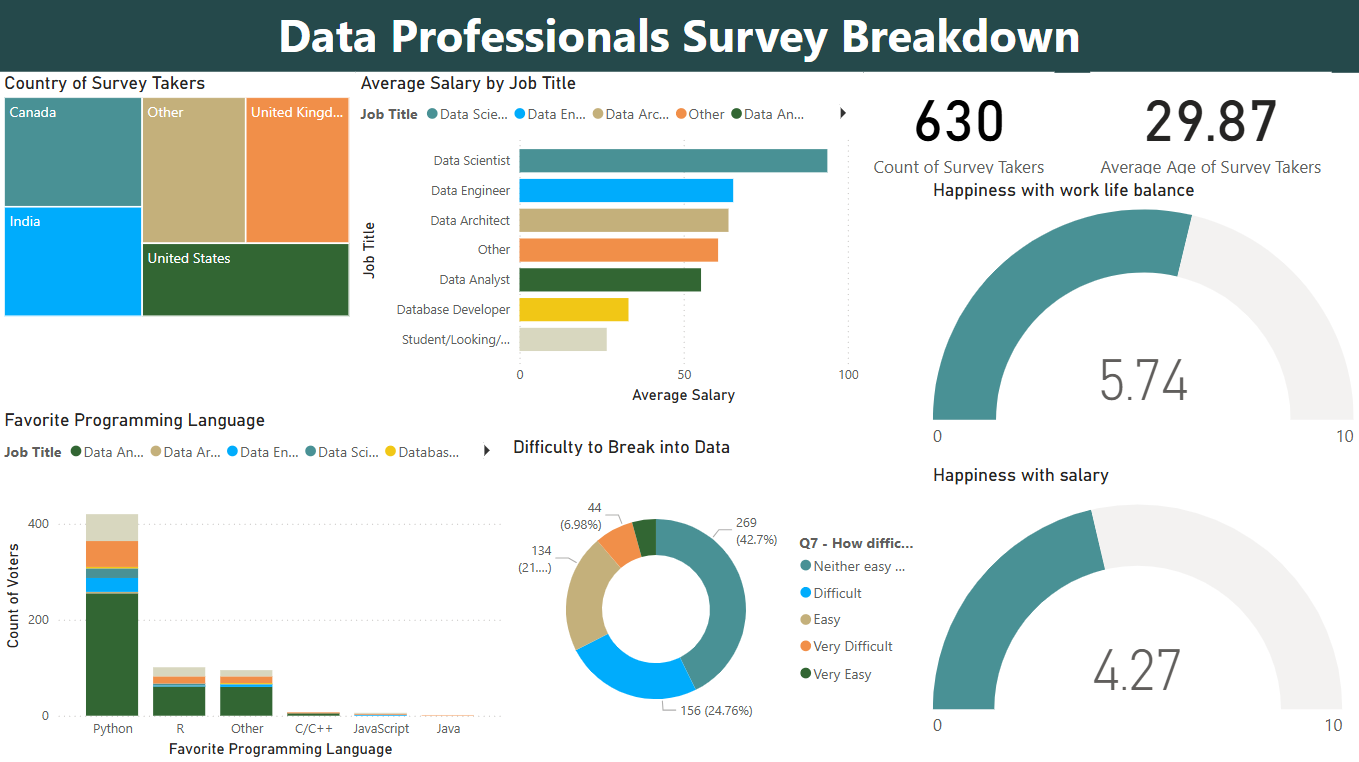

The page's visual inventory and layout, read from the dashboard file:
{"tool":"powerbi","page":{"name":"Page 1","canvas":[1280,720],"ordinal":0},"visuals":[{"type":"textbox","box":[0,0,1280.3,70],"z":0},{"type":"card","fields":{"Values":["Count(Data Professional Survey.Unique ID)"]},"box":[813.6,69.9,178.9,100.9],"z":1000},{"type":"card","fields":{"Values":["Avg(Data Professional Survey.Q10 - Current Age)"]},"box":[1027.4,69.9,227.3,100.9],"z":2000},{"type":"barChart","title":"Average Salary by Job Title","fields":{"Category":["Data Professional Survey.Q1 - Which Title Best Fits your Current Role?.1"],"Y":["Avg(Data Professional Survey.Avarage Salary)"],"Series":["Data Professional Survey.Q1 - Which Title Best Fits your Current Role?.1"]},"box":[334.9,69.9,478.8,317.4],"z":3000},{"type":"columnChart","title":"Favorite Programming Language","fields":{"Category":["Data Professional Survey.Q5 - Favorite Programming Language.1"],"Y":["CountNonNull(Data Professional Survey.Unique ID)"],"Series":["Data Professional Survey.Q1 - Which Title Best Fits your Current Role?.1"]},"box":[0,387.3,478.8,332.2],"z":4000},{"type":"treemap","title":"Country of Survey Takers","fields":{"Group":["Data Professional Survey.Q11 - Which Country do you live in?.1"],"Values":["Count(Data Professional Survey.Q11 - Which Country do you live in?.1)"]},"box":[0,69.9,334.9,235.3],"z":5000},{"type":"gauge","title":"Happiness with work life balance","fields":{"Y":["Avg(Data Professional Survey.Q6 - How Happy are you in your Current Position with the following? (Work/Life Balance))"],"MinValue":["Min(Data Professional Survey.Q6 - How Happy are you in your Current Position with the following? (Work/Life Balance))1"],"MaxValue":["Max(Data Professional Survey.Q6 - How Happy are you in your Current Position with the following? (Work/Life Balance))2"]},"box":[874.1,170.8,406.1,267.6],"z":6000},{"type":"gauge","title":"Happiness with salary","fields":{"Y":["Avg(Data Professional Survey.Q6 - How Happy are you in your Current Position with the following? (Salary))"],"MinValue":["Min(Data Professional Survey.Q6 - How Happy are you in your Current Position with the following? (Salary))"],"MaxValue":["Max(Data Professional Survey.Q6 - How Happy are you in your Current Position with the following? (Salary))"]},"box":[874.1,438.4,395.4,281.1],"z":7000},{"type":"donutChart","title":"Difficulty to Break into Data","fields":{"Category":["Data Professional Survey.Q7 - How difficult was it for you to break into Data?"],"Y":["CountNonNull(Data Professional Survey.Q7 - How difficult was it for you to break into Data?)"]},"box":[478.8,411.5,395.4,308],"z":8000}]}

Visuals, with their boxes in screenshot pixels (x1, y1, x2, y2), scaled from the page's 1280x720 canvas onto the 1359x762 screenshot:
textbox: x1=0, y1=0, x2=1358, y2=74
card - Count(Data Professional Survey.Unique ID): x1=864, y1=74, x2=1054, y2=181
card - Avg(Data Professional Survey.Q10 - Current Age): x1=1091, y1=74, x2=1332, y2=181
"Average Salary by Job Title" barChart: x1=356, y1=74, x2=864, y2=410
"Favorite Programming Language" columnChart: x1=0, y1=410, x2=508, y2=761
"Country of Survey Takers" treemap: x1=0, y1=74, x2=356, y2=323
"Happiness with work life balance" gauge: x1=928, y1=181, x2=1358, y2=464
"Happiness with salary" gauge: x1=928, y1=464, x2=1348, y2=761
"Difficulty to Break into Data" donutChart: x1=508, y1=436, x2=928, y2=761
